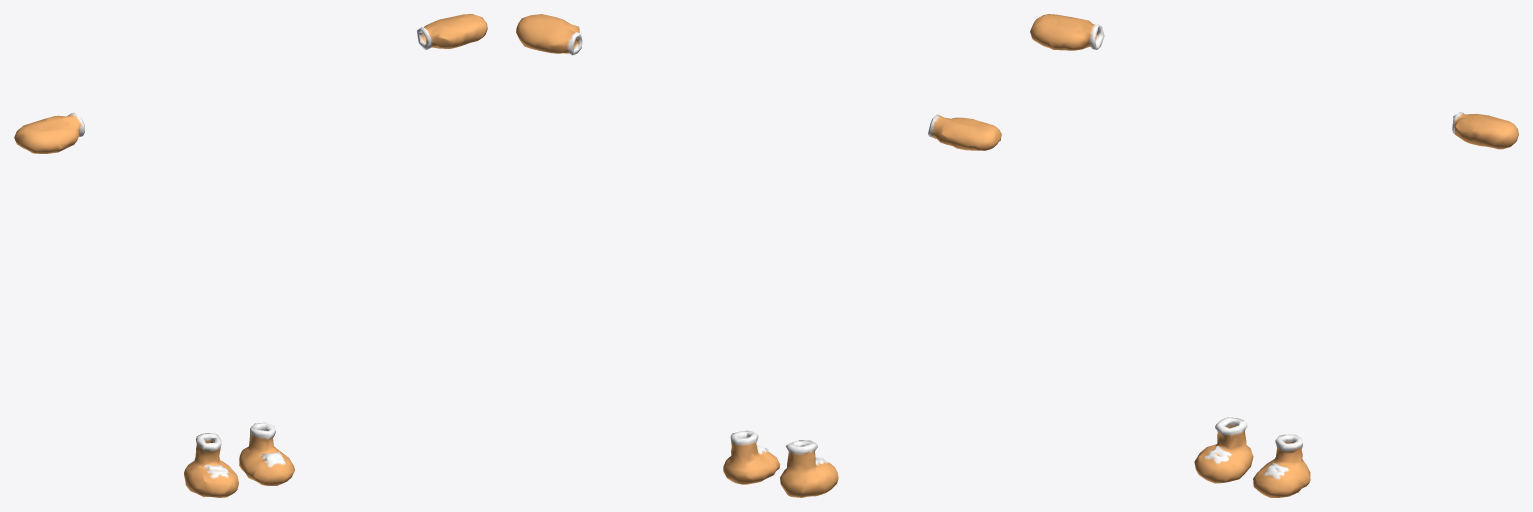
Rendered from orange shoes and gloves.glb.
The picture shows the model from 3 angles, left to right: view 1: azimuth 30°, elevation 25°; view 2: azimuth 150°, elevation 25°; view 3: azimuth 330°, elevation 25°; orthographic projection. The views are drawn at different scales.
Parts seen in each view (by area): view 1: accessories_christmas_orange.001; view 2: accessories_christmas_orange.001; view 3: accessories_christmas_orange.001.
Boxes of the visible parts, bbox=[...] form: accessories_christmas_orange.001: bbox=[14, 14, 487, 497]; accessories_christmas_orange.001: bbox=[516, 14, 1001, 497]; accessories_christmas_orange.001: bbox=[1030, 14, 1518, 497].
Bounding box in the file's own units: 1.01 × 0.8409 × 0.1313.
1 material, 1 textured.
